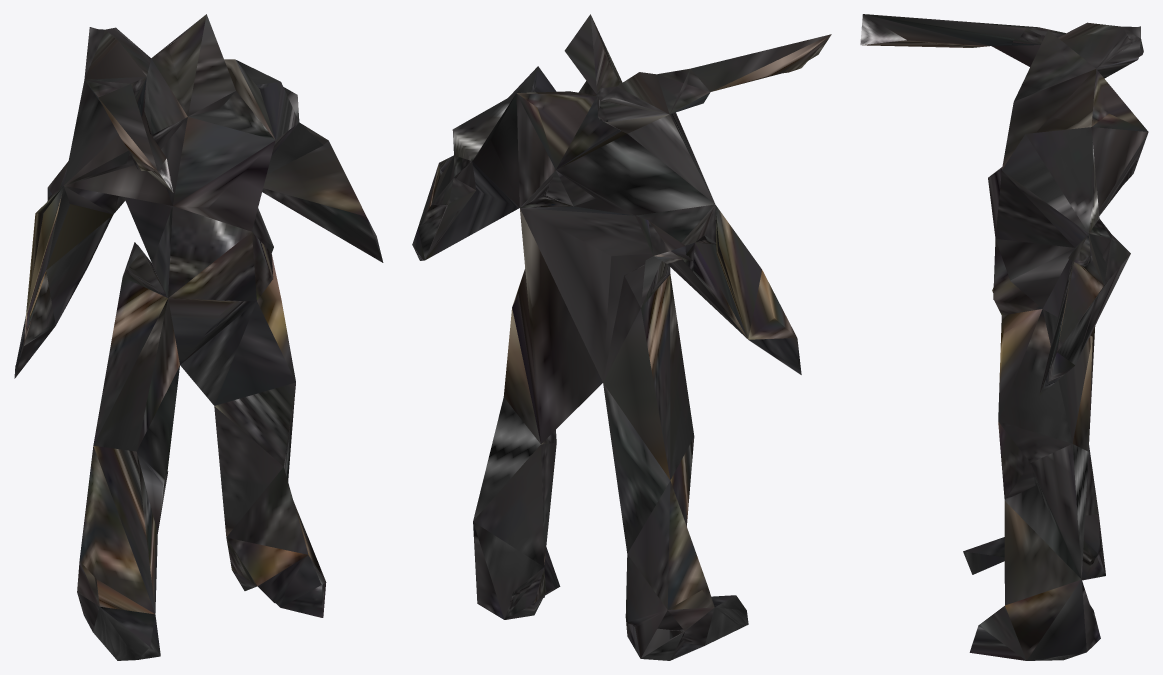
File: obsidian_vanguard_lod2.glb
The picture shows the model from 3 angles, left to right: view 1: azimuth 30°, elevation 25°; view 2: azimuth 150°, elevation 25°; view 3: azimuth 270°, elevation 25°; orthographic projection. The views are drawn at different scales.
Parts seen in each view (by area): view 1: Mesh_0; view 2: Mesh_0; view 3: Mesh_0.
Part boxes in pixels (box(x1,y1,x2,y2)): Mesh_0: box(14, 14, 383, 660); Mesh_0: box(412, 14, 831, 660); Mesh_0: box(860, 14, 1148, 660).
Size of the model in its own units: 1.27 by 1.94 by 0.861.
Materials: 1 (1 with a texture image).
